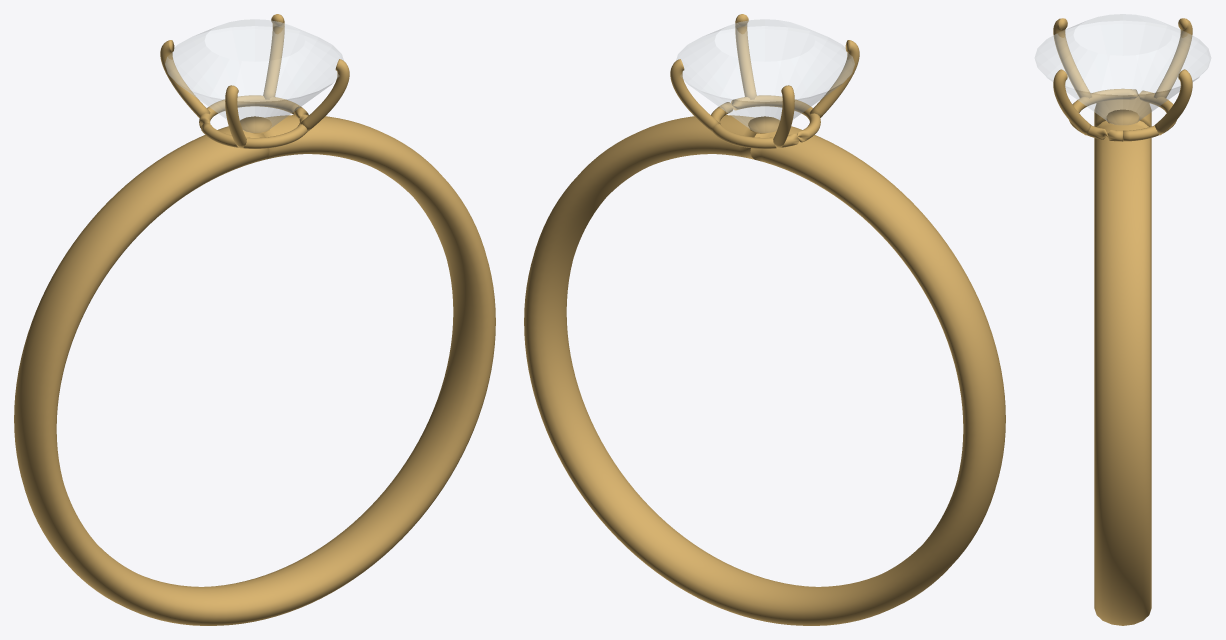
File: settings-four-prong.glb
3 renders of one model, left to right at view 1: azimuth 30°, elevation 25°; view 2: azimuth 150°, elevation 25°; view 3: azimuth 270°, elevation 25°, orthographic.
Parts seen in each view (by area): view 1: Band, Gem, Lower gallery, Prong.001, Prong, Prong.003, Prong.002; view 2: Band, Gem, Lower gallery, Prong.002, Prong.003, Prong, Prong.001; view 3: Band, Gem, Lower gallery, Prong.001, Prong.002, Prong, Prong.003, Head stem.
Part boxes in pixels (x1,y1,x2,y2): Band: (14,115,495,625); Gem: (165,19,343,132); Lower gallery: (199,95,308,148); Prong.001: (160,40,210,117); Prong: (263,14,284,99); Prong.003: (299,59,349,131); Prong.002: (225,85,246,148); Band: (524,115,1005,625); Gem: (676,19,854,132); Lower gallery: (711,95,820,148); Prong.002: (809,40,859,117); Prong.003: (735,14,756,99); Prong: (670,59,720,131); Prong.001: (773,85,794,148); Band: (1094,97,1151,625); Gem: (1035,14,1210,124); Lower gallery: (1069,88,1176,141); Prong.001: (1154,18,1192,98); Prong.002: (1053,18,1091,98); Prong: (1154,69,1192,135); Prong.003: (1053,69,1091,135); Head stem: (1106,109,1139,124).
Bounding box in the file's own units: 19.6 × 22.94 × 6.5.
